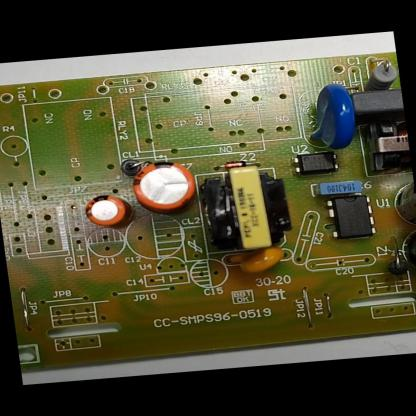Cap1: (128, 157, 202, 217)
Cap2: (77, 190, 138, 232)
Cap3: (388, 168, 416, 226)
Cap4: (394, 223, 416, 281)
MOSFET: (322, 193, 378, 242)
Mov: (297, 80, 361, 152)
Resistor: (354, 56, 401, 93)
Transformer: (198, 160, 297, 258), (365, 117, 411, 172)
